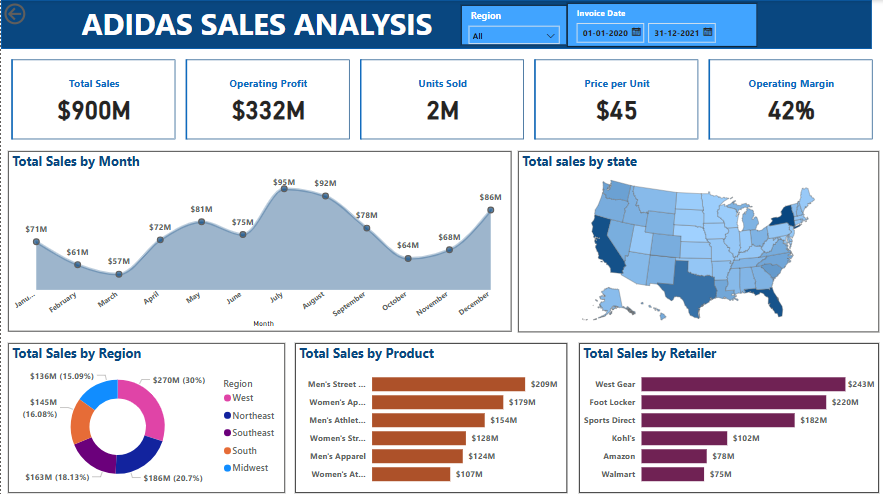

What the dashboard file says about the page in this screenshot:
{"tool":"powerbi","page":{"name":"Page 1","canvas":[1280,720],"ordinal":0},"visuals":[{"type":"shape","box":[0,0,1254.2,70.6],"z":0},{"type":"textbox","box":[110.9,0,528.5,70.6],"z":1000},{"type":"cardVisual","fields":{"Data":["Sum(Data Sales Adidas.Total Sales)","Sum(Data Sales Adidas.Operating Profit)","Sum(Data Sales Adidas.Units Sold)","Avg(Data Sales Adidas.Price per Unit)","Avg(Data Sales Adidas.Operating Margin)"]},"box":[10.1,80.6,1254.2,125.3],"z":2000},{"type":"areaChart","title":"Total Sales by Month","fields":{"Category":["Data Sales Adidas.Invoice Date.Variation.Date Hierarchy.Month"],"Y":["Sum(Data Sales Adidas.Total Sales)"]},"box":[10.1,217.4,725,260],"z":3000},{"type":"shapeMap","title":"Total sales by state","fields":{"Category":["Data Sales Adidas.State"],"Value":["Sum(Data Sales Adidas.Total Sales)"]},"box":[744.5,217.4,519.8,260.6],"z":4000},{"type":"actionButton","box":[0,0,100,40],"z":5000},{"type":"donutChart","title":"Total Sales by Region","fields":{"Category":["Data Sales Adidas.Region"],"Y":["Sum(Data Sales Adidas.Total Sales)"]},"box":[10.1,493.9,398.9,216],"z":6000},{"type":"barChart","title":"Total Sales by Product","fields":{"Category":["Data Sales Adidas.Product"],"Y":["Sum(Data Sales Adidas.Total Sales)"]},"box":[423.4,493.9,391.7,216],"z":7000},{"type":"barChart","title":"Total Sales by Retailer","fields":{"Y":["Sum(Data Sales Adidas.Total Sales)"],"Category":["Data Sales Adidas.Retailer"]},"box":[832.3,493.9,432,216],"z":8000},{"type":"slicer","fields":{"Values":["Data Sales Adidas.Region"]},"box":[662.4,7.2,152.6,57.6],"z":9000},{"type":"slicer","title":"Invoice Date","fields":{"Values":["Data Sales Adidas.Invoice Date"]},"box":[815,4.3,273.6,63.4],"z":9001}]}

Visuals, with their boxes in screenshot pixels (x1, y1, x2, y2), scaled from the page's 1280x720 canvas onto the 883x494 screenshot:
shape: 0 0 865 48
textbox: 77 0 441 48
cardVisual - Sum(Data Sales Adidas.Total Sales) x Sum(Data Sales Adidas.Operating Profit): 7 55 872 141
"Total Sales by Month" areaChart: 7 149 507 328
"Total sales by state" shapeMap: 514 149 872 328
actionButton: 0 0 69 27
"Total Sales by Region" donutChart: 7 339 282 487
"Total Sales by Product" barChart: 292 339 562 487
"Total Sales by Retailer" barChart: 574 339 872 487
slicer - Data Sales Adidas.Region: 457 5 562 44
"Invoice Date" slicer: 562 3 751 46
